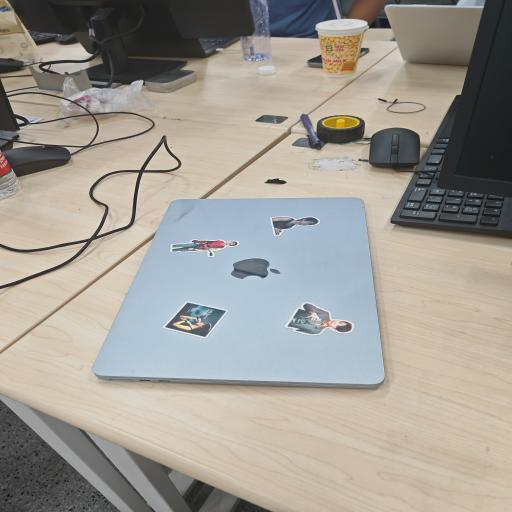laptop: (93, 198, 384, 388), (385, 4, 483, 66)
mouse: (368, 128, 420, 168), (3, 146, 71, 176), (0, 58, 24, 73)
